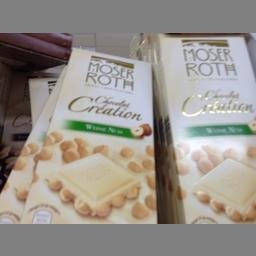chocolate: (30, 47, 156, 223), (156, 34, 254, 220)
